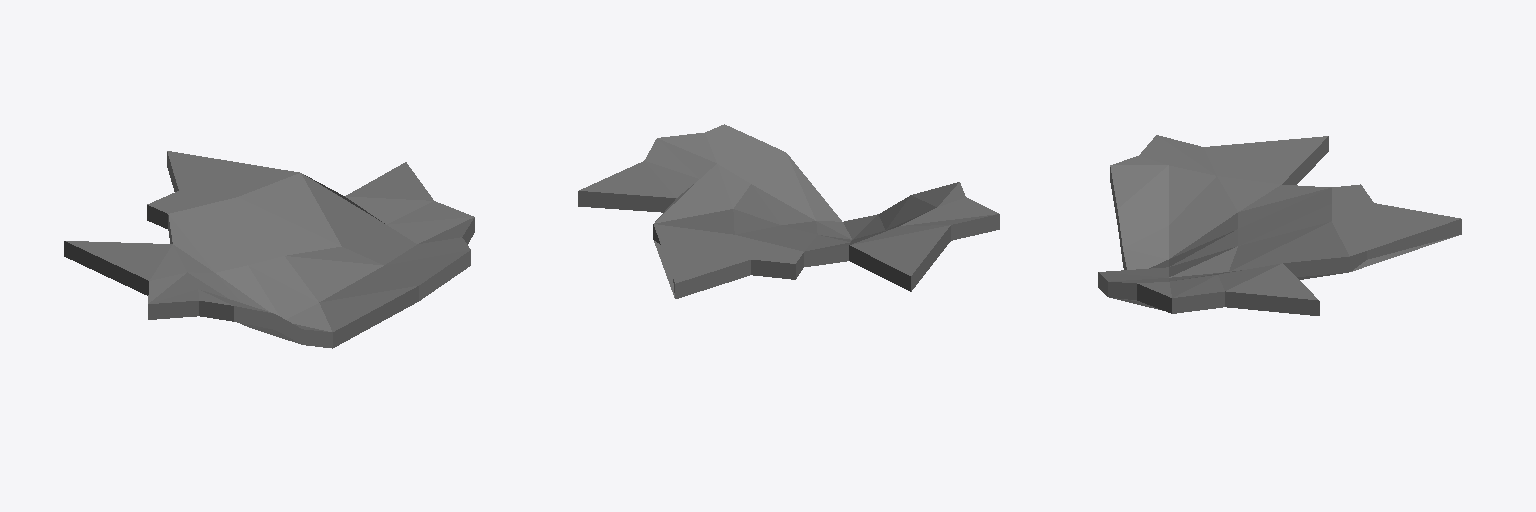
File: leaf.obj
3 renders of one model, left to right at view 1: azimuth 30°, elevation 25°; view 2: azimuth 150°, elevation 25°; view 3: azimuth 270°, elevation 25°, orthographic.
Parts seen in each view (by area): view 1: pCube1; view 2: pCube1; view 3: pCube1.
Part boxes in pixels (x1,y1,x2,y2): pCube1: (64,151,474,348); pCube1: (578,124,999,298); pCube1: (1098,135,1461,315).
Bounding box in the file's own units: 1.77 × 0.3819 × 1.64.